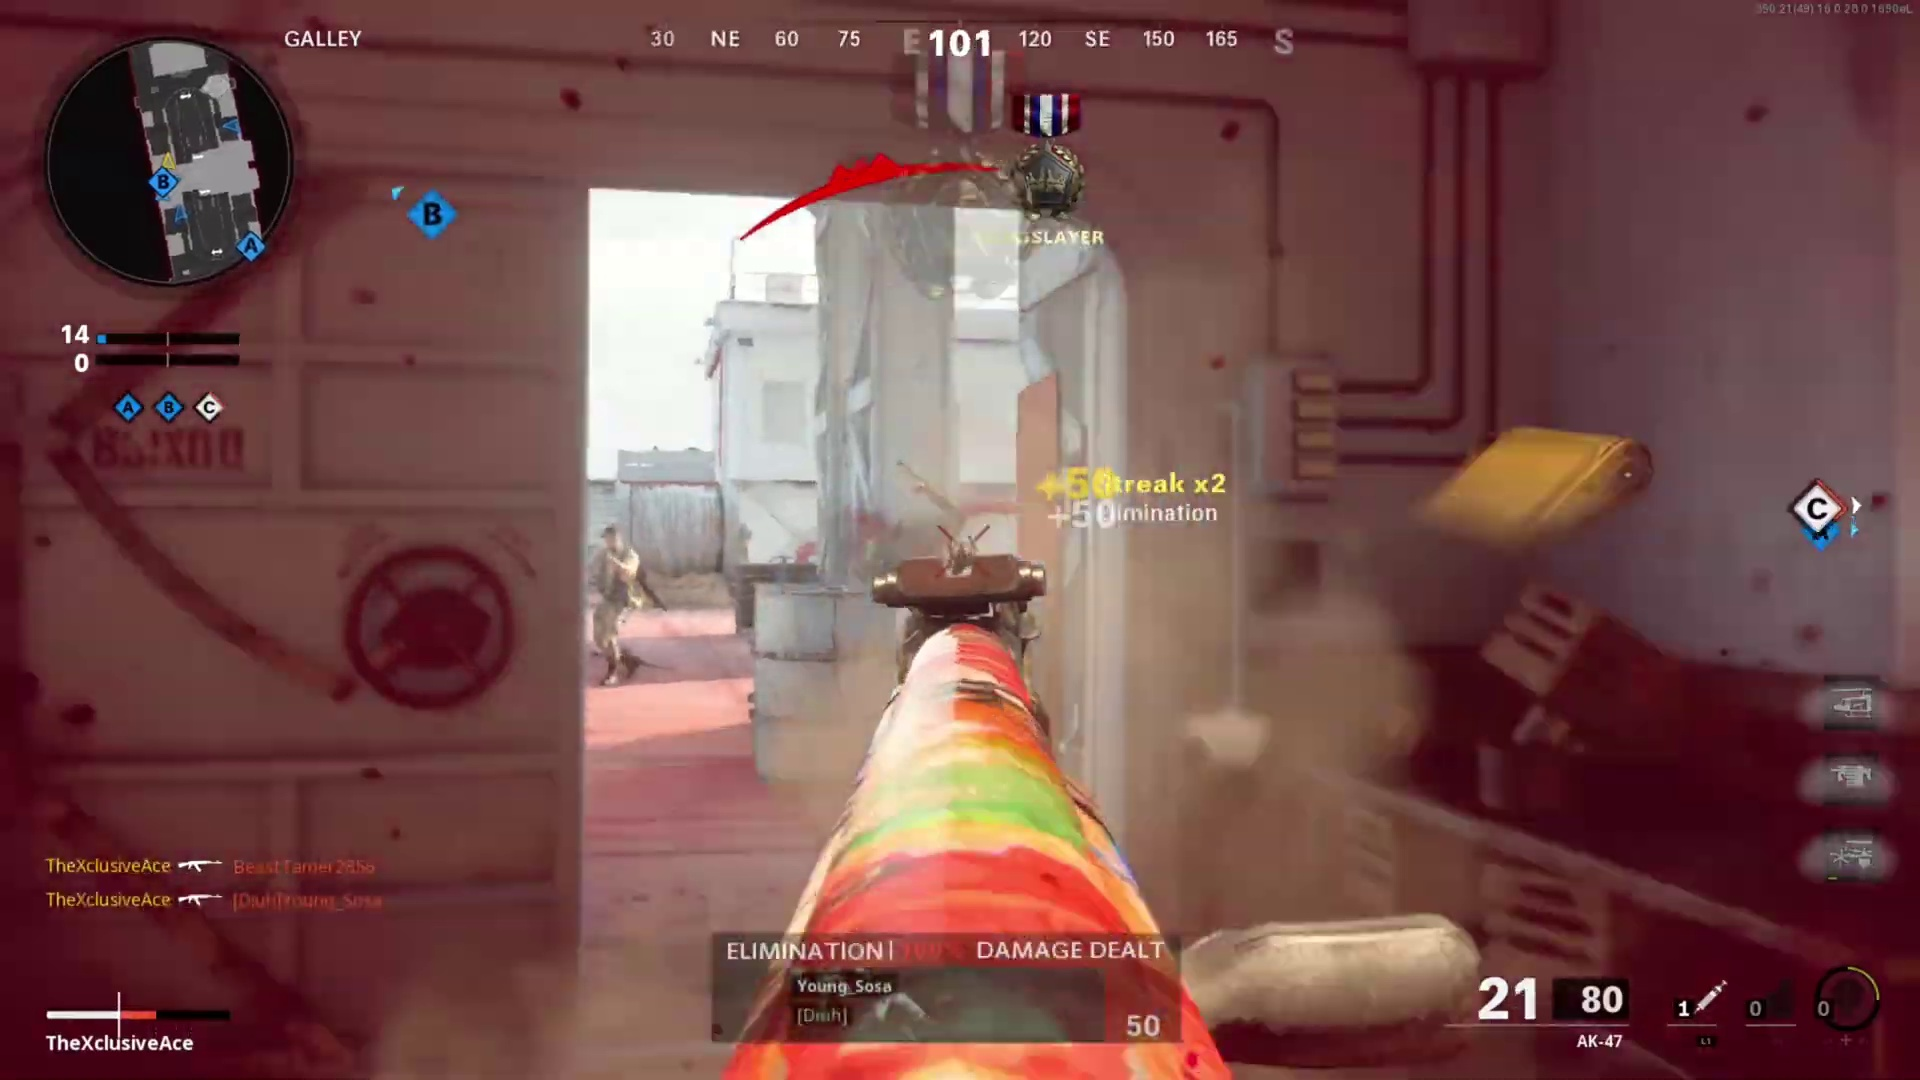head: (593, 520, 628, 563)
person: (587, 524, 659, 683)
